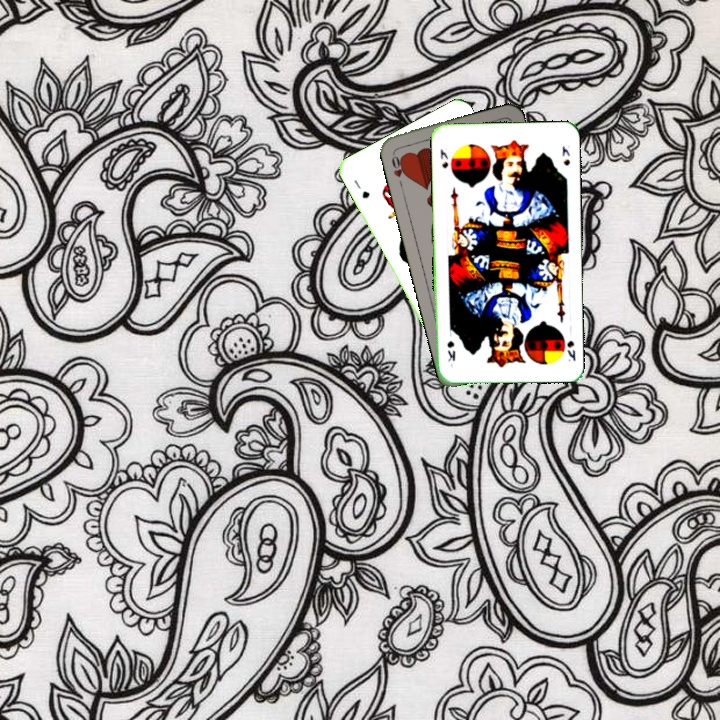GU: (350, 175, 372, 201)
HO: (388, 149, 410, 189)
SK: (563, 337, 578, 364), (436, 145, 450, 171)
